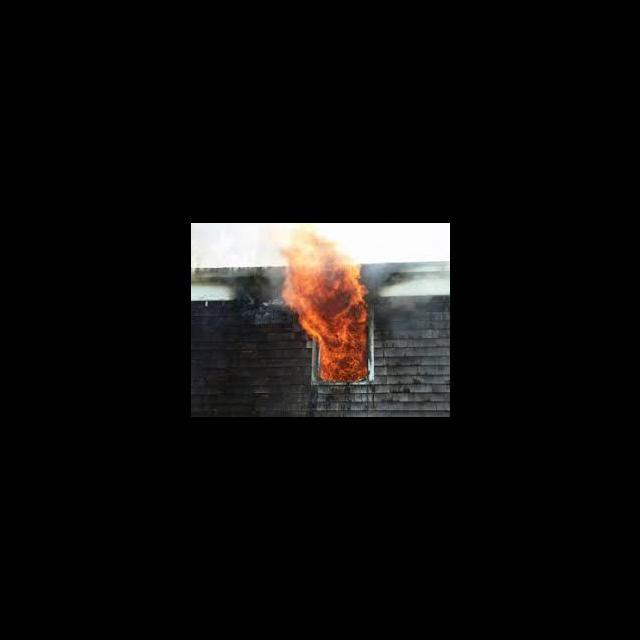Fire: (269, 223, 368, 382)
